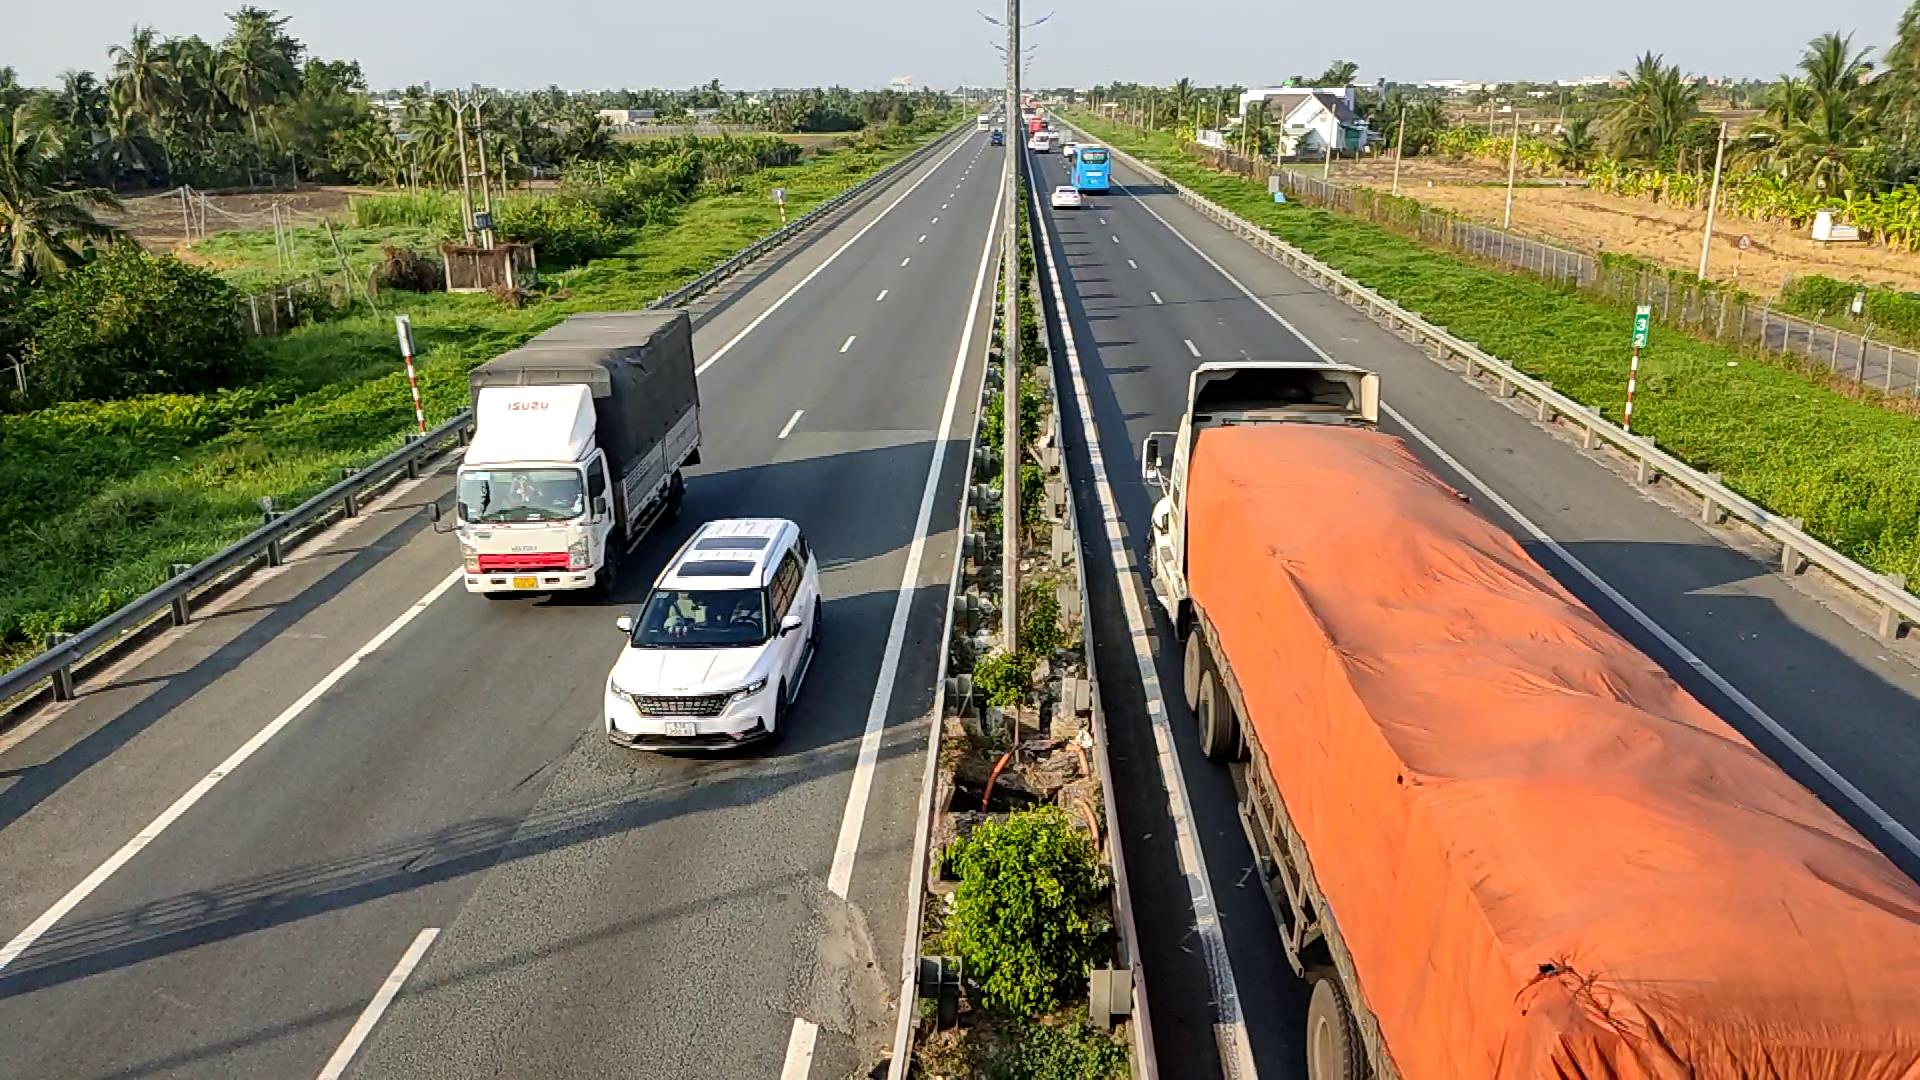car: (603, 516, 823, 753)
truck: (1141, 363, 1917, 1065), (451, 309, 703, 600)
